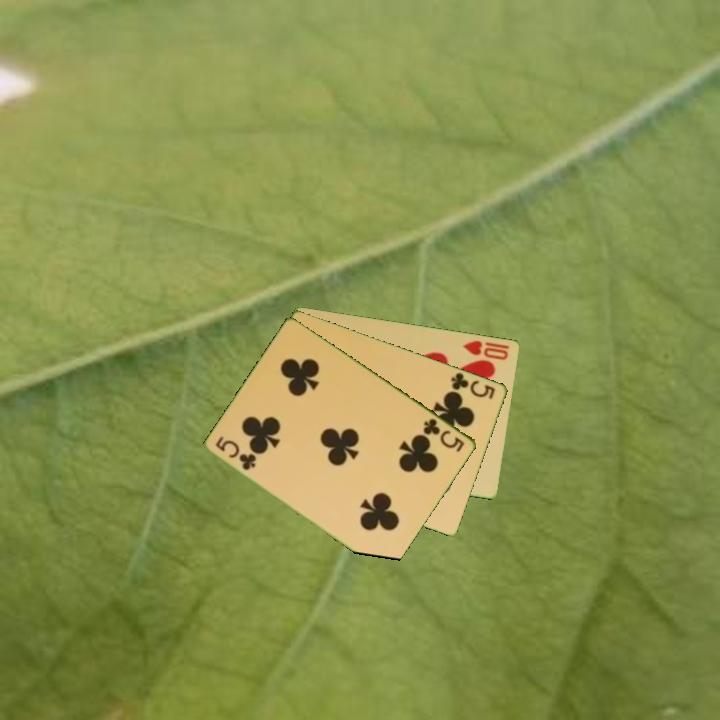10h: (460, 336, 512, 363)
5c: (212, 432, 259, 473), (420, 415, 468, 455), (447, 369, 498, 402)
